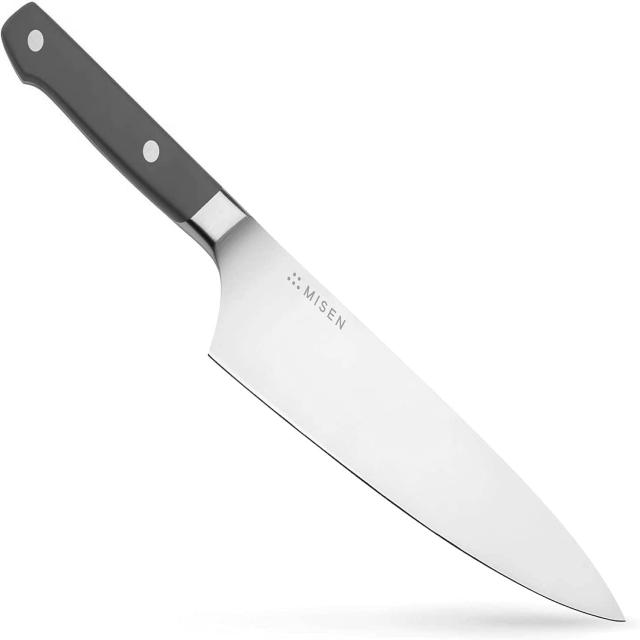Knife: (12, 0, 627, 639)
